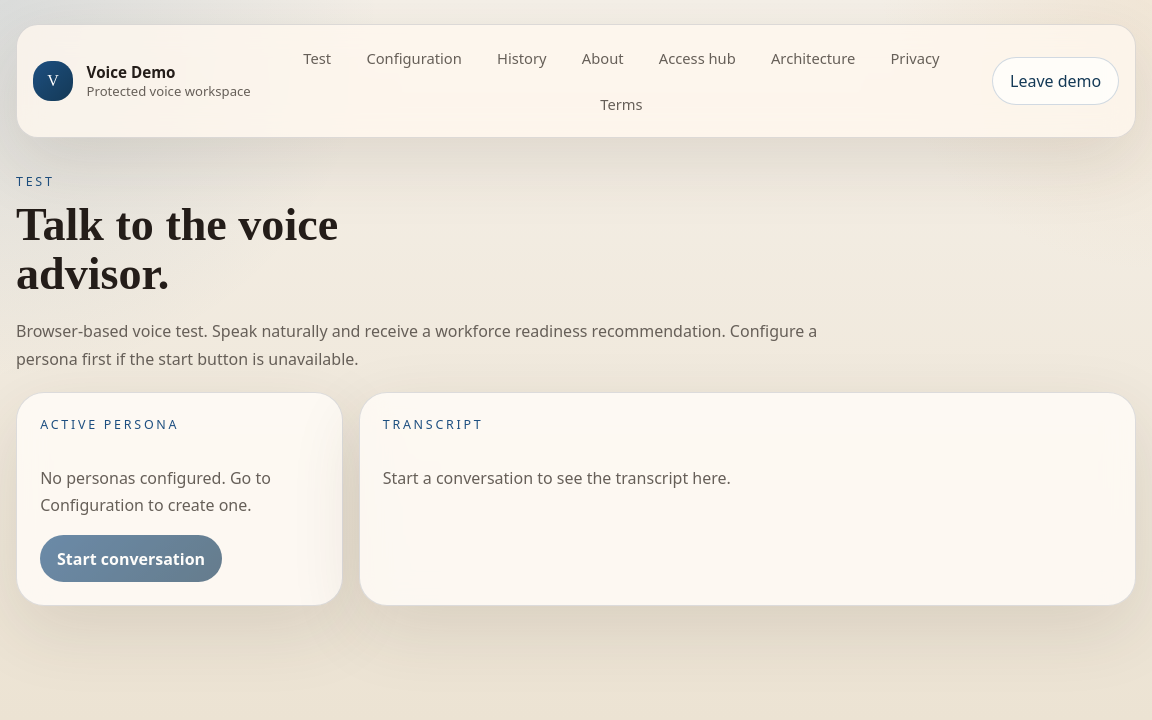
Test: VoiceDemoWorkspace › History tab shows empty state when no conversations
The image size is (1152, 720).
Click the button "History": click(522, 58) [483,39,560,77]
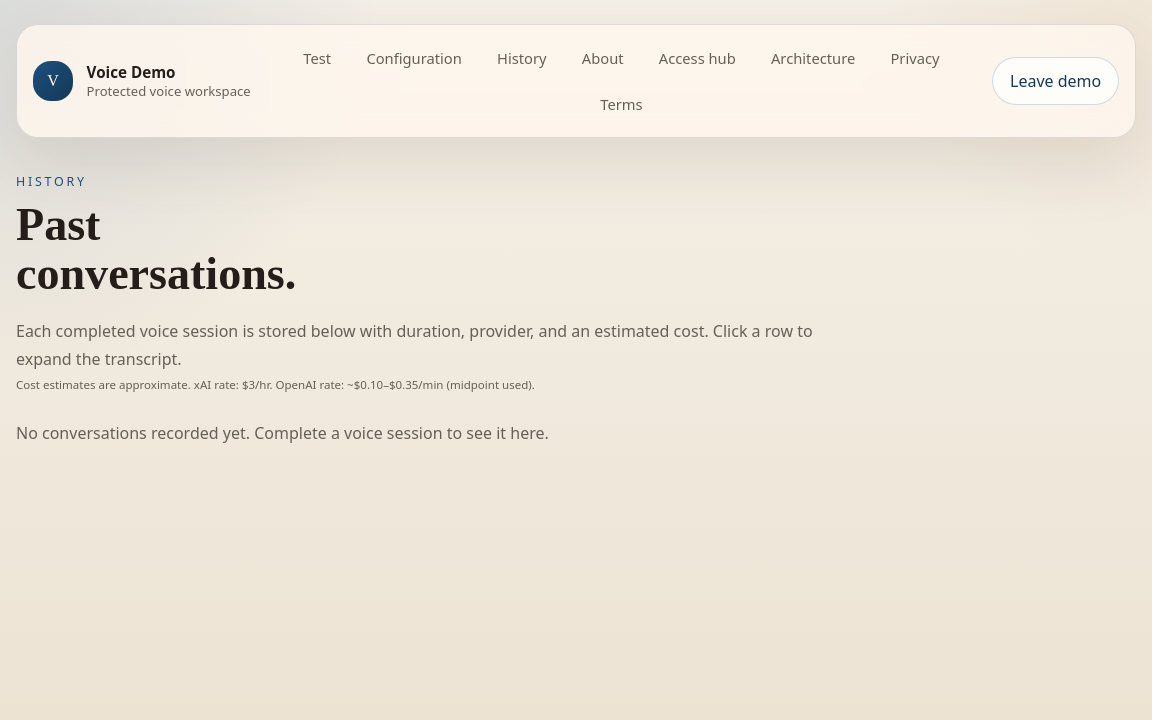
Expected: the text "No conversations recorded yet" is shown, [16,422,549,444]
